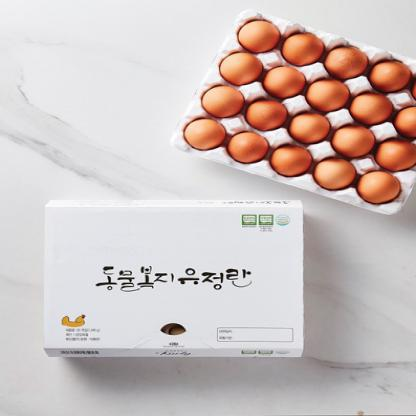egg: (306, 148, 363, 204), (174, 109, 230, 156), (276, 21, 324, 72), (297, 74, 356, 115), (351, 163, 406, 205), (322, 40, 378, 80), (328, 122, 382, 162), (336, 85, 386, 123), (199, 81, 244, 122), (268, 138, 311, 180), (265, 60, 307, 102), (217, 50, 264, 86), (247, 96, 292, 132), (225, 128, 265, 168), (367, 50, 411, 86), (373, 140, 415, 175), (377, 102, 415, 140), (235, 22, 282, 52), (293, 108, 327, 144)
